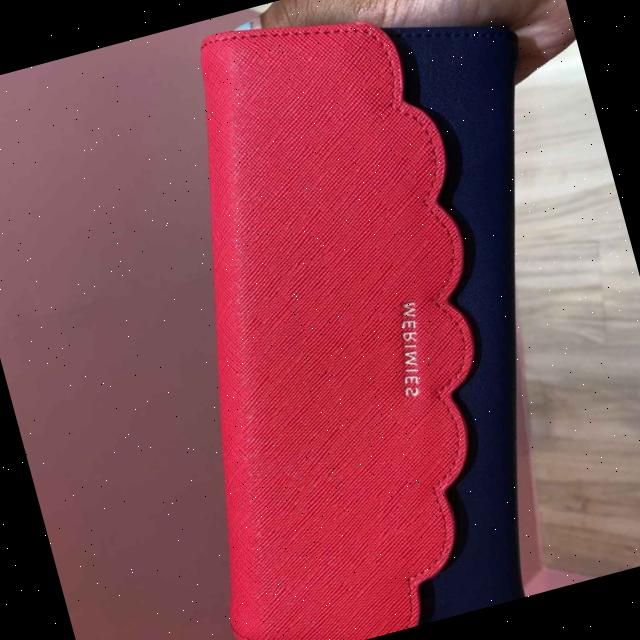Handbag: (71, 0, 640, 640)
